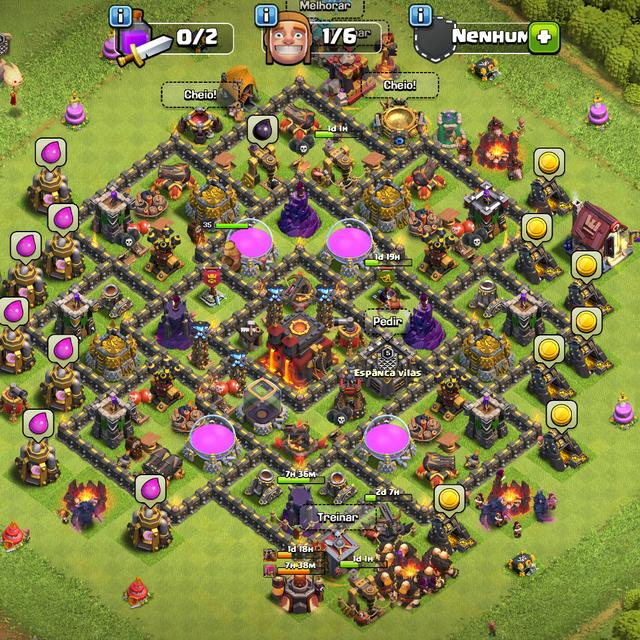Elixir: (46, 334, 80, 369), (22, 408, 56, 443), (47, 202, 80, 238), (10, 230, 42, 267), (36, 137, 68, 173), (134, 474, 167, 508), (0, 297, 30, 331)
ElixirNegro: (247, 114, 279, 150)
coin: (532, 146, 566, 182), (545, 399, 579, 434), (433, 484, 466, 520), (522, 212, 554, 248), (534, 334, 566, 369), (571, 250, 603, 285), (570, 307, 602, 341)
